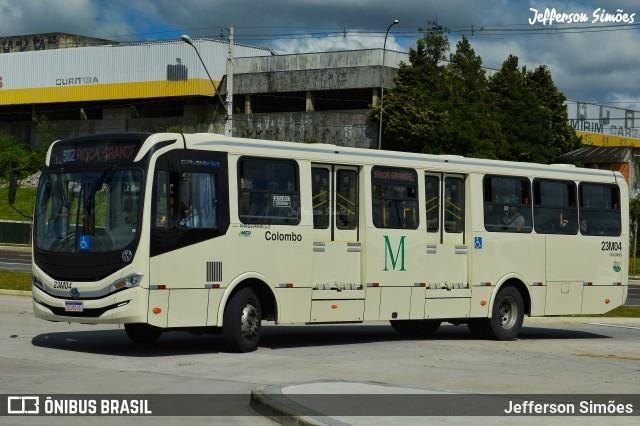ROCA GRANDE: (73, 143, 142, 164)
